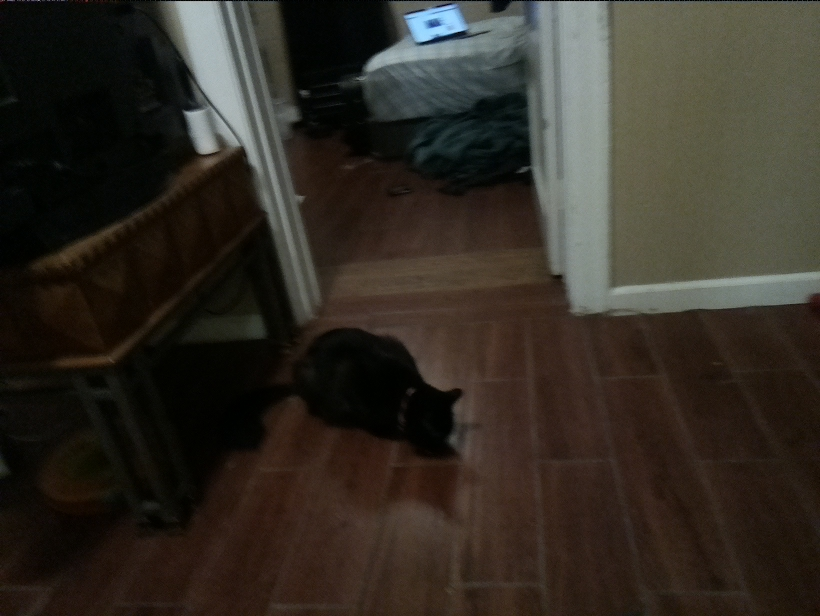cat: (285, 326, 485, 457)
